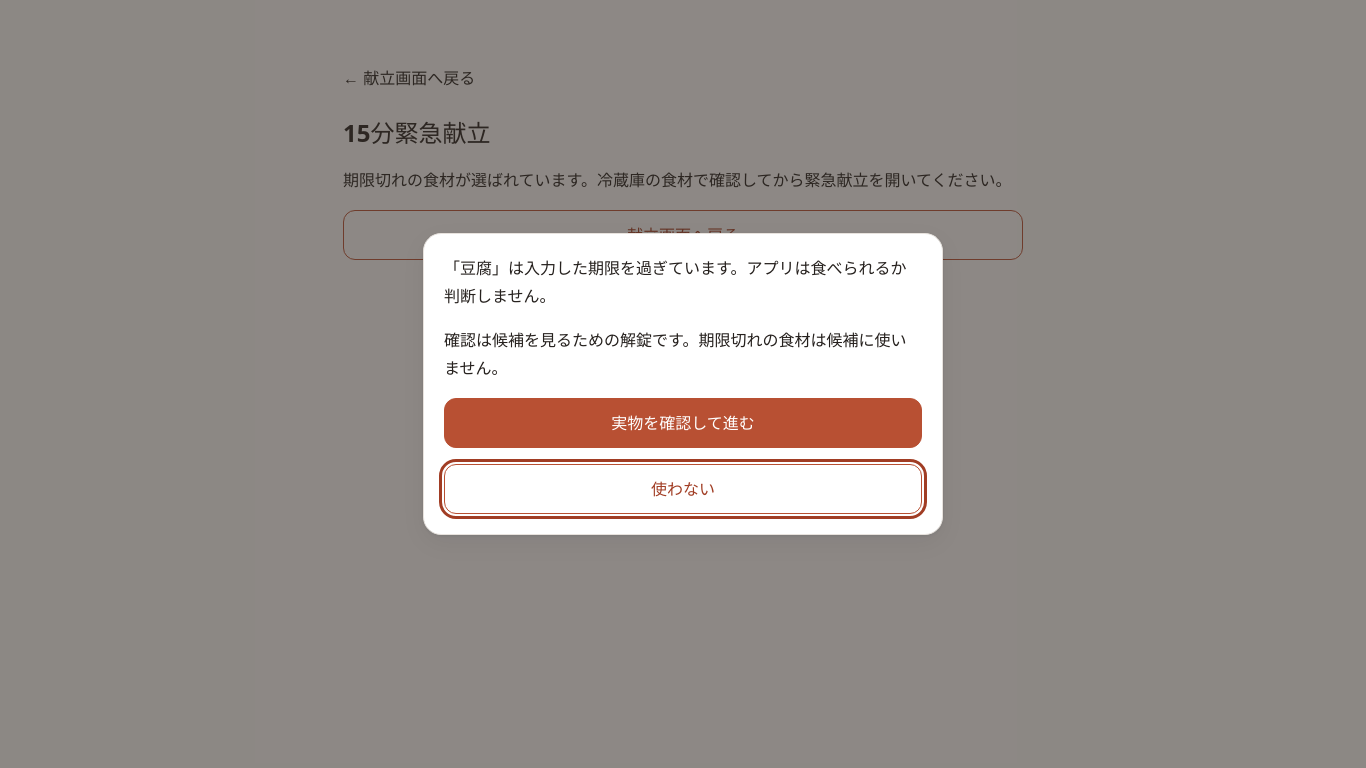
Scenario: PE8: confirming expired pantry on emergency page enables candidate query
This screenshot has width=1366, height=768.
Expected: the message "期限切れの食材が選ばれています。冷蔵庫の食材で確認してから緊急献立を開いてください。" is shown, [343,166,1023,194]
Click the button "実物を確認して進む". click: (683, 423)
box: [444,398,922,448]
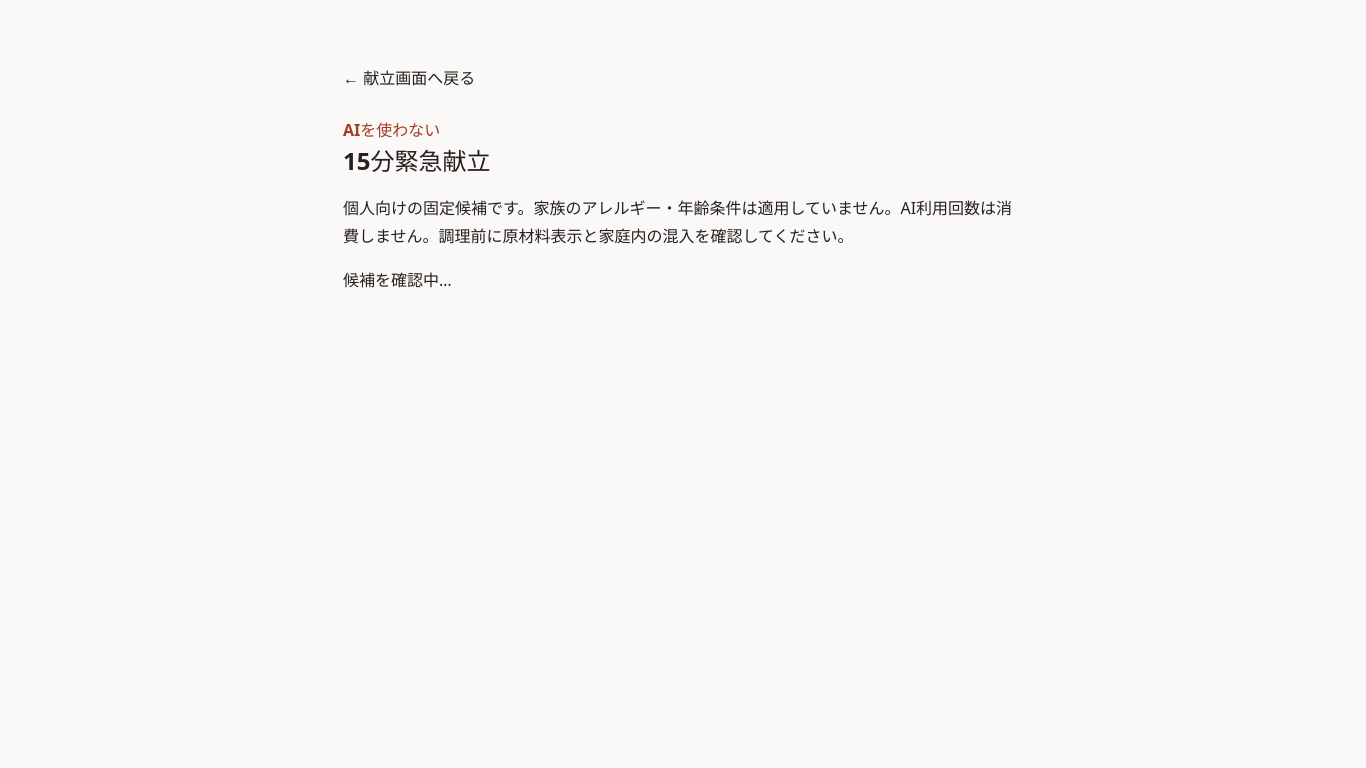
Expected: the message with test id "emergency-expired-pantry-gate" is gone
